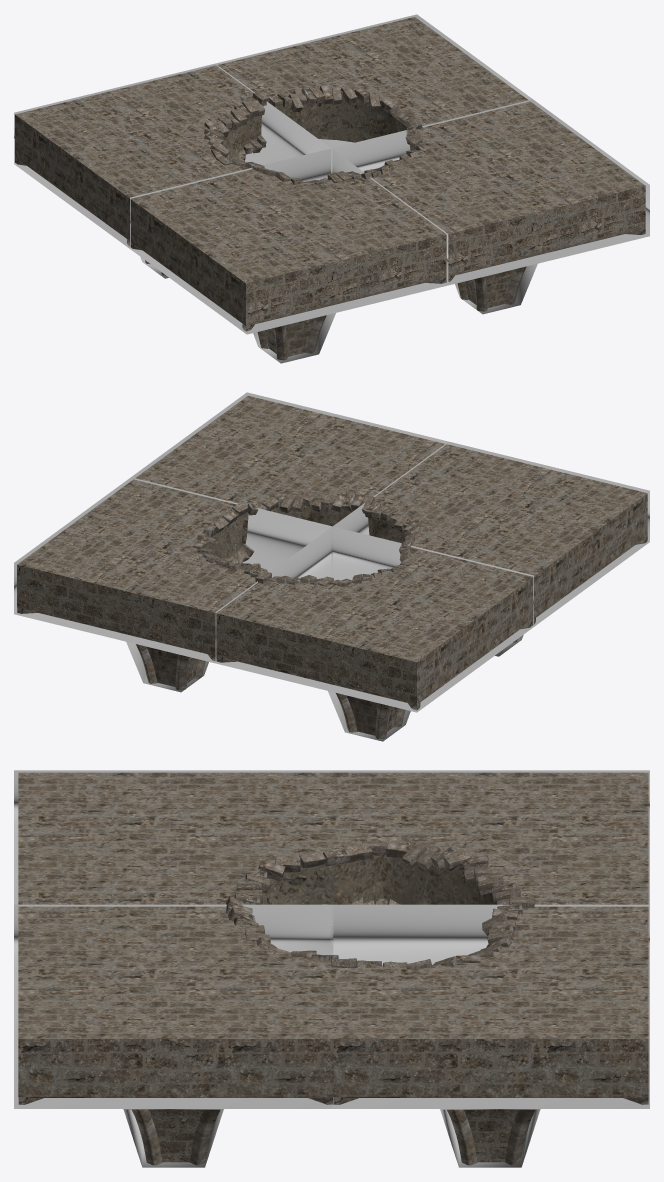
The model's file is SM_Ceiling_01a_Broken.gltf.
The picture shows the model from 3 angles, top to bottom: view 1: azimuth 30°, elevation 25°; view 2: azimuth 150°, elevation 25°; view 3: azimuth 270°, elevation 25°; orthographic projection. The views are drawn at different scales.
Visible parts, largest first — view 1: SM_Ceiling_01a_Broken, SM_Ceiling_01a_Broken_ConvexHulls; view 2: SM_Ceiling_01a_Broken, SM_Ceiling_01a_Broken_ConvexHulls; view 3: SM_Ceiling_01a_Broken, SM_Ceiling_01a_Broken_ConvexHulls.
Boxes of the visible parts, left/top/right/bottom form: SM_Ceiling_01a_Broken: left=15, top=17, right=645, bottom=360; SM_Ceiling_01a_Broken_ConvexHulls: left=14, top=14, right=649, bottom=363; SM_Ceiling_01a_Broken: left=17, top=396, right=647, bottom=738; SM_Ceiling_01a_Broken_ConvexHulls: left=14, top=392, right=649, bottom=741; SM_Ceiling_01a_Broken: left=18, top=772, right=648, bottom=1165; SM_Ceiling_01a_Broken_ConvexHulls: left=14, top=770, right=649, bottom=1167.
Size of the model in its own units: 28.22 by 9.3 by 28.26.
Materials: 4 (3 with a texture image).
